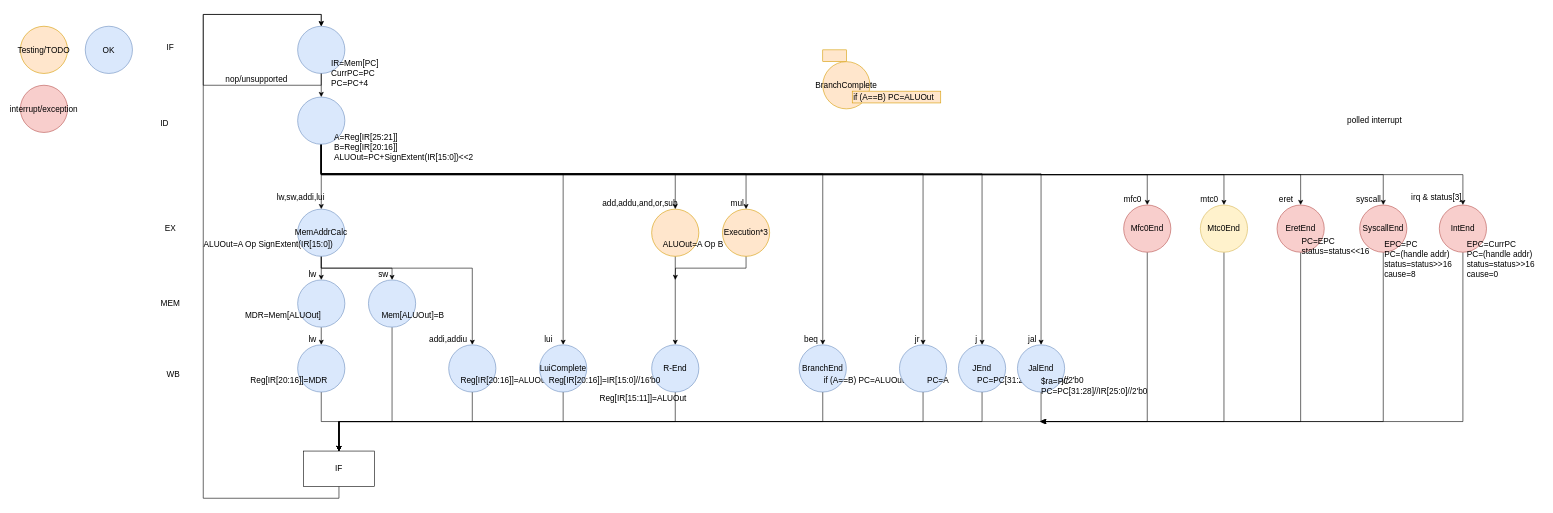
Some shapes in this 1553 by 513 pixel diagram are drawn without their labels. Each missing label, with the box of its shape:
AddiEnd: (448, 344, 496, 392)
bne: (822, 49, 846, 62)
Execution: (651, 209, 699, 256)
InstructionDecode RegFetch: (297, 96, 345, 144)
InstructionFetch: (297, 26, 345, 73)
JrEnd: (899, 344, 947, 392)
MemRead: (297, 279, 345, 327)
MemWrite: (368, 279, 416, 327)
WriteBack: (297, 344, 345, 392)
